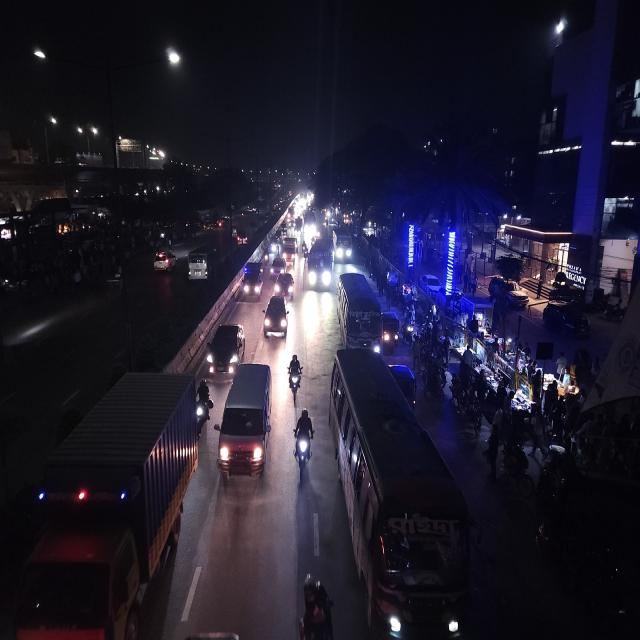bus: (329, 350, 470, 640), (336, 266, 383, 356), (304, 234, 336, 294), (186, 242, 220, 288), (335, 230, 354, 261)
car: (221, 361, 274, 483), (204, 317, 245, 376), (262, 294, 289, 339), (152, 248, 180, 274), (274, 270, 296, 300)
cng: (382, 311, 402, 350)
motorcycle: (291, 408, 317, 475), (193, 369, 213, 433), (288, 350, 304, 397), (262, 247, 270, 269), (301, 240, 308, 258)
truck: (7, 374, 196, 640), (240, 258, 266, 305), (281, 238, 296, 265)
